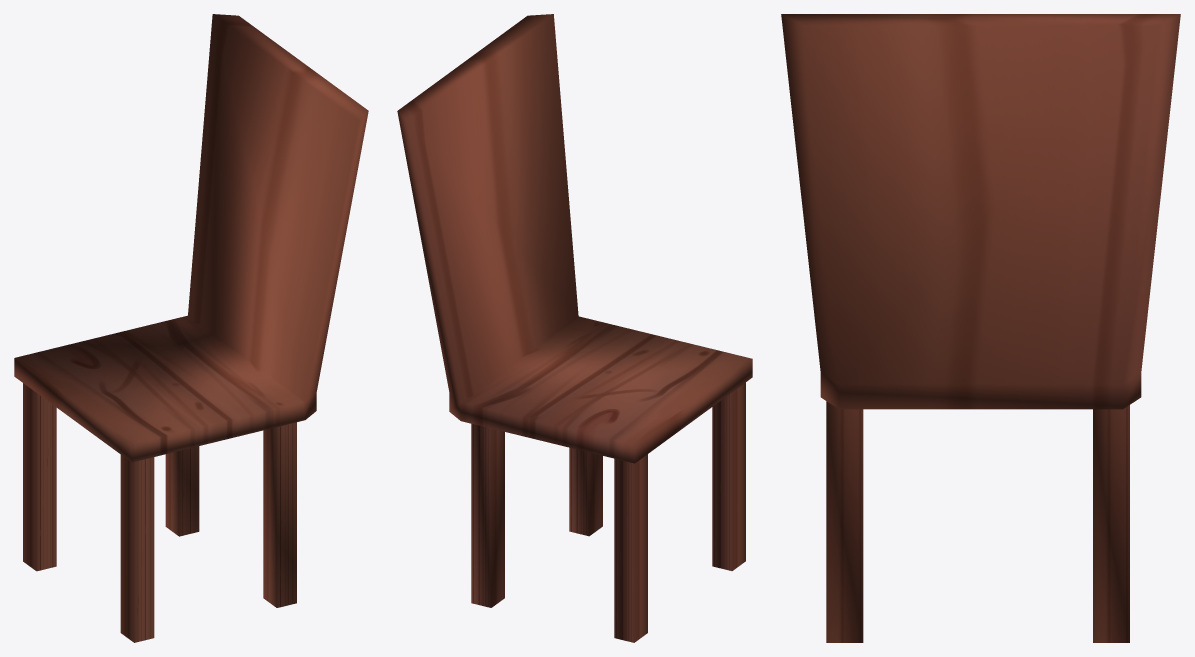
The model's file is Cadeira.fbx.
The picture shows the model from 3 angles, left to right: view 1: azimuth 30°, elevation 25°; view 2: azimuth 150°, elevation 25°; view 3: azimuth 270°, elevation 25°; orthographic projection. The views are drawn at different scales.
Visible parts, largest first — view 1: Cadeira; view 2: Cadeira; view 3: Cadeira.
Part boxes in pixels (x1=…): Cadeira: x1=14, y1=14, x2=368, y2=642; Cadeira: x1=397, y1=14, x2=752, y2=642; Cadeira: x1=781, y1=14, x2=1180, y2=642.
Bounding box in the file's own units: 73.54 × 80.82 × 147.
